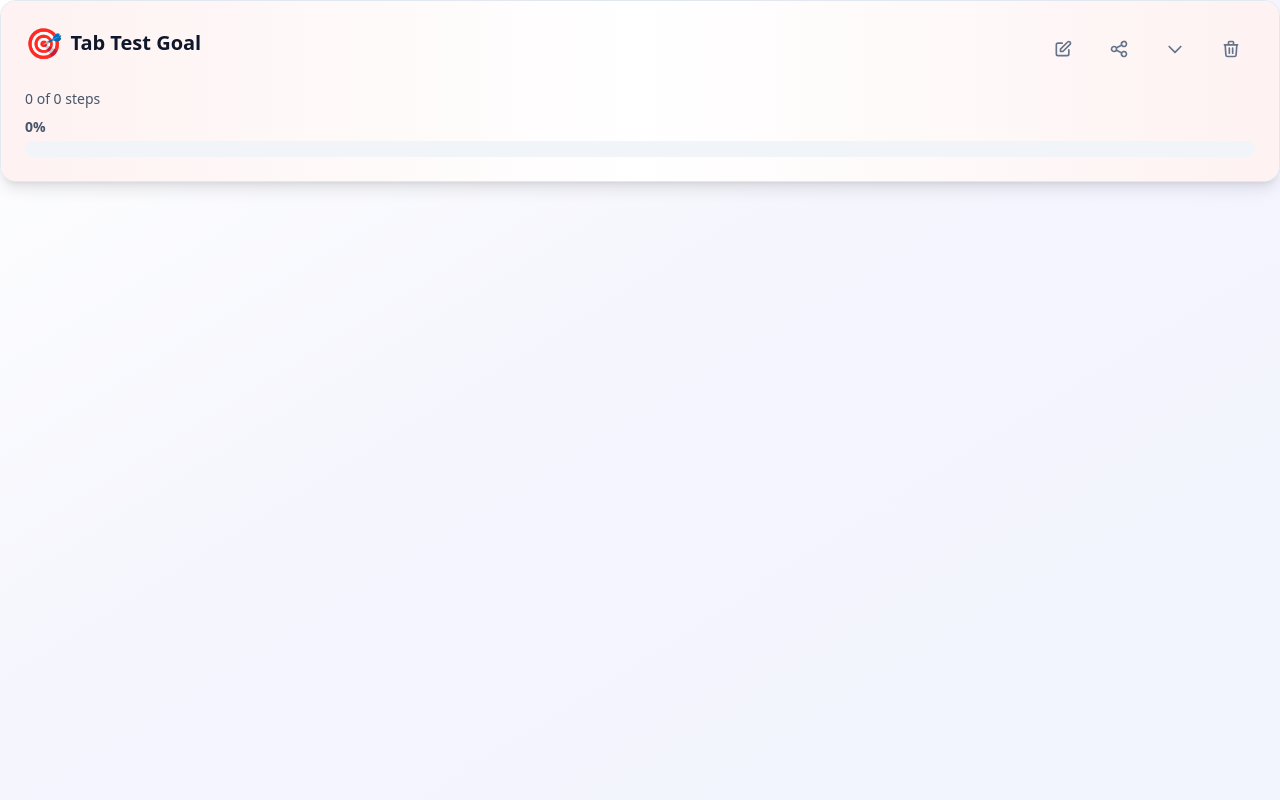
Test: GoalCard › GoalCard tab visibility › shows Calendar tab when streakHistory has entries
Click the button titled "Expand" at (1175, 49), box [1151,25,1199,73]
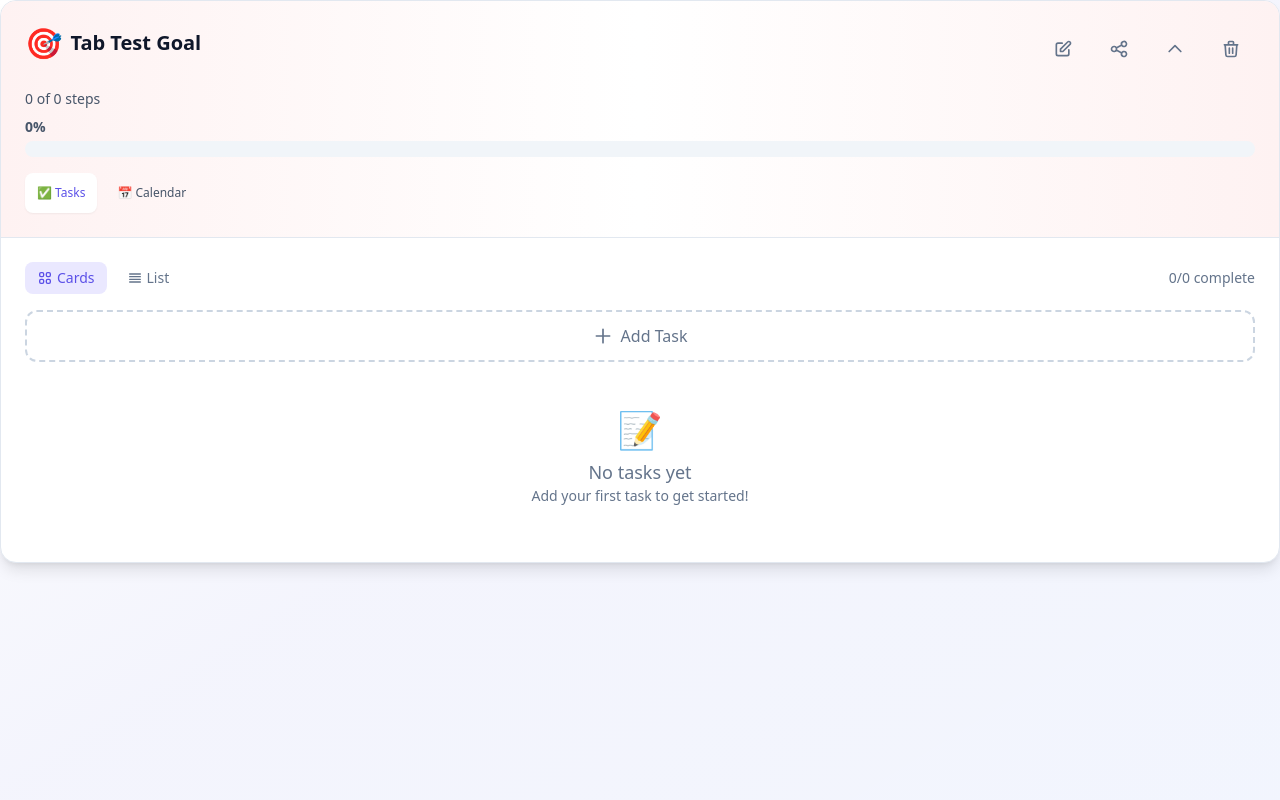
Check: the tab "📅 Calendar" is shown, box [105,173,198,213]
